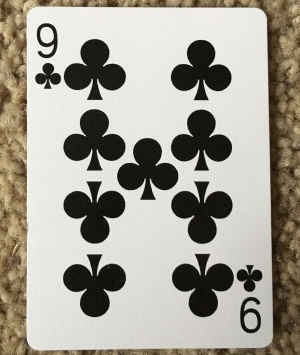card: (24, 5, 275, 350)
